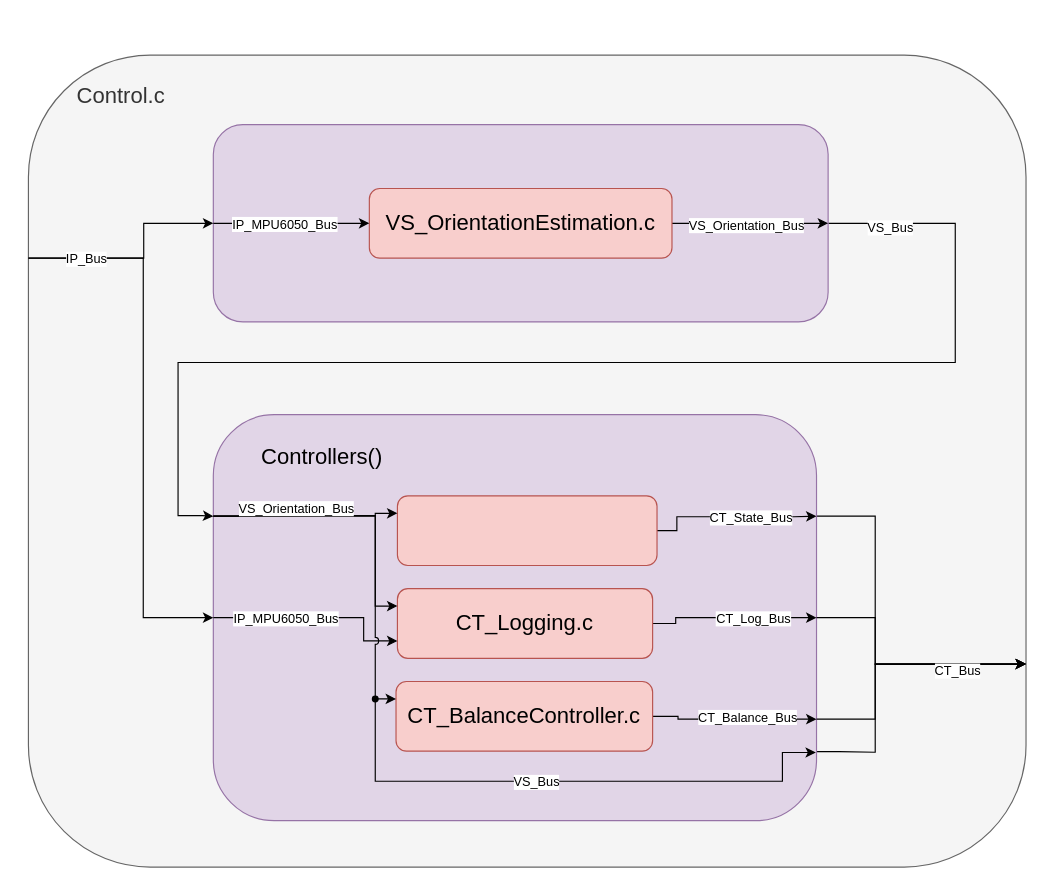
This 1056x887 diagram has some shape labels left out. The box of each missing label's shape, as (x1, y1, x2, y2) in pixels:
CT_StateMachine.c: (396, 495, 657, 566)
VirtualSensors(): (212, 124, 828, 322)
